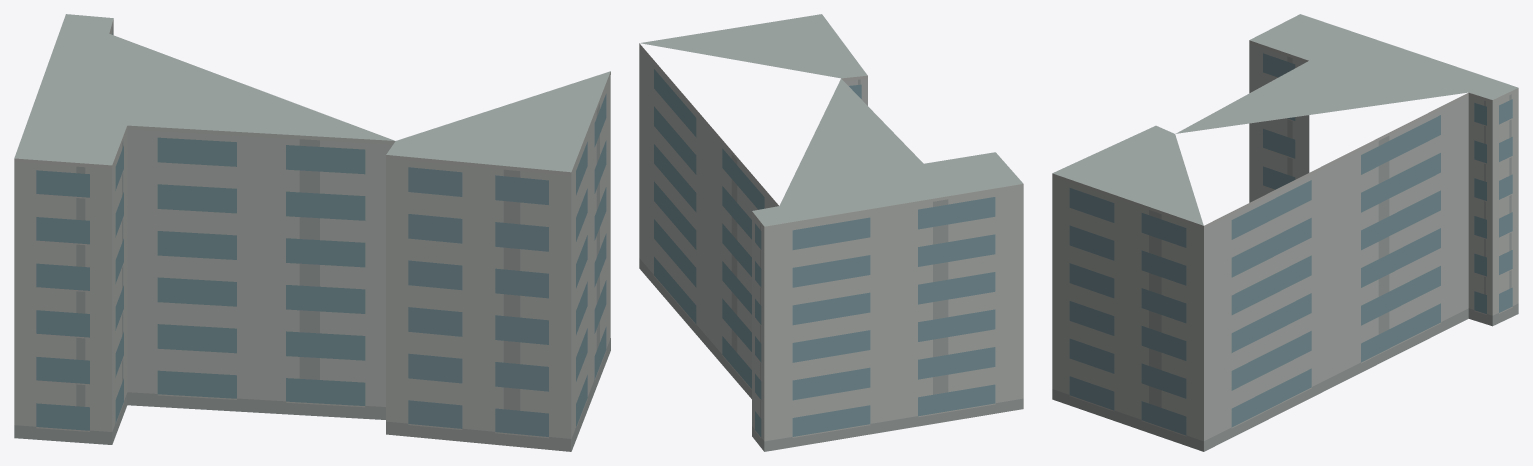
The model's file is residential-cef259ab-fd36-4cc1-b76b-917137aa3ea4.glb.
3 renders of one model, left to right at view 1: azimuth 30°, elevation 25°; view 2: azimuth 150°, elevation 25°; view 3: azimuth 270°, elevation 25°, orthographic. The views are drawn at different scales.
Visible parts, largest first — view 1: residential-cef259ab-fd36-4cc1-b76b-917137aa3ea4.tmp; view 2: residential-cef259ab-fd36-4cc1-b76b-917137aa3ea4.tmp; view 3: residential-cef259ab-fd36-4cc1-b76b-917137aa3ea4.tmp.
Boxes of the visible parts, bbox=[...] form: residential-cef259ab-fd36-4cc1-b76b-917137aa3ea4.tmp: bbox=[14, 14, 610, 451]; residential-cef259ab-fd36-4cc1-b76b-917137aa3ea4.tmp: bbox=[639, 14, 1023, 451]; residential-cef259ab-fd36-4cc1-b76b-917137aa3ea4.tmp: bbox=[1052, 14, 1518, 451].
Size of the model in its own units: 36.77 by 18.3 by 34.23.
